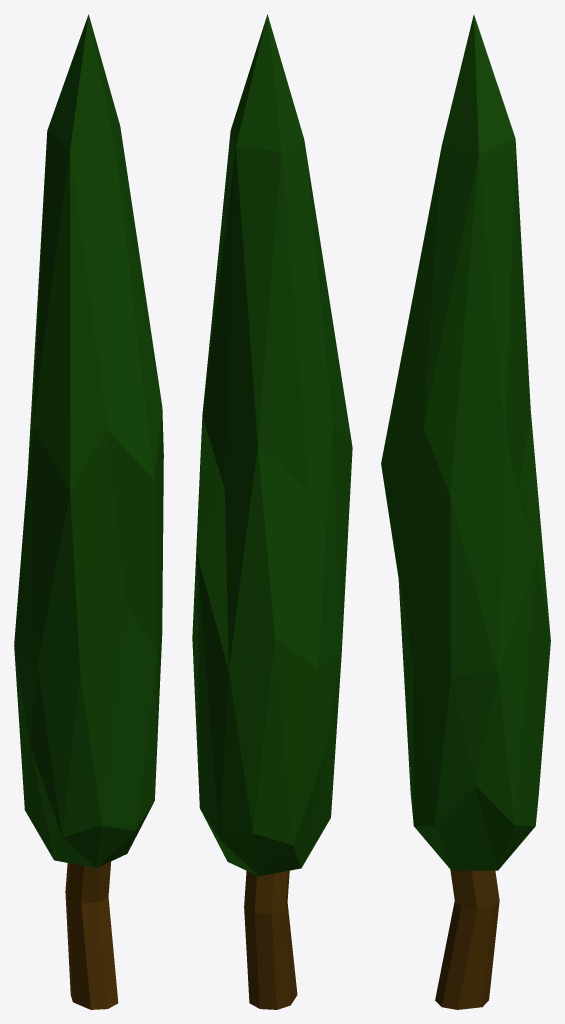
Rendered from Cypress1.fbx.
The picture shows the model from 3 angles, left to right: view 1: azimuth 30°, elevation 25°; view 2: azimuth 150°, elevation 25°; view 3: azimuth 270°, elevation 25°; orthographic projection.
Parts seen in each view (by area): view 1: Tree1; view 2: Tree1; view 3: Tree1.
Boxes of the visible parts, bbox=[...] form: Tree1: bbox=[14, 14, 163, 1009]; Tree1: bbox=[192, 14, 352, 1009]; Tree1: bbox=[381, 14, 550, 1009].
Size of the model in its own units: 194 by 1444 by 225.
